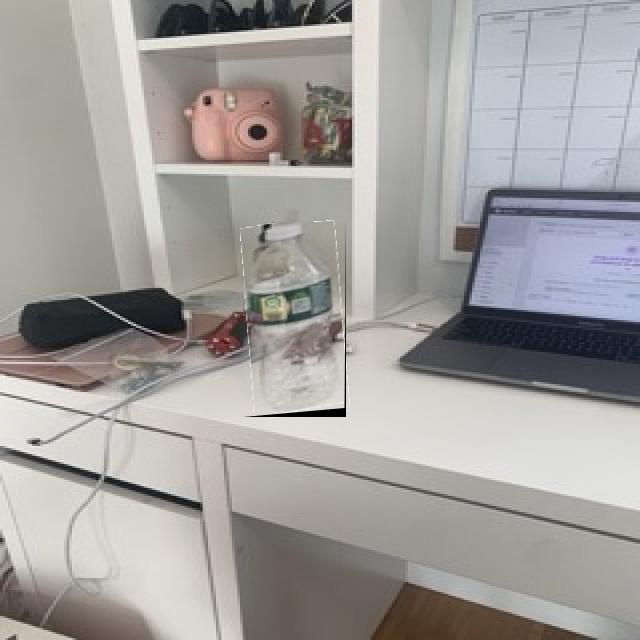water_bottle: (244, 222, 346, 417)
